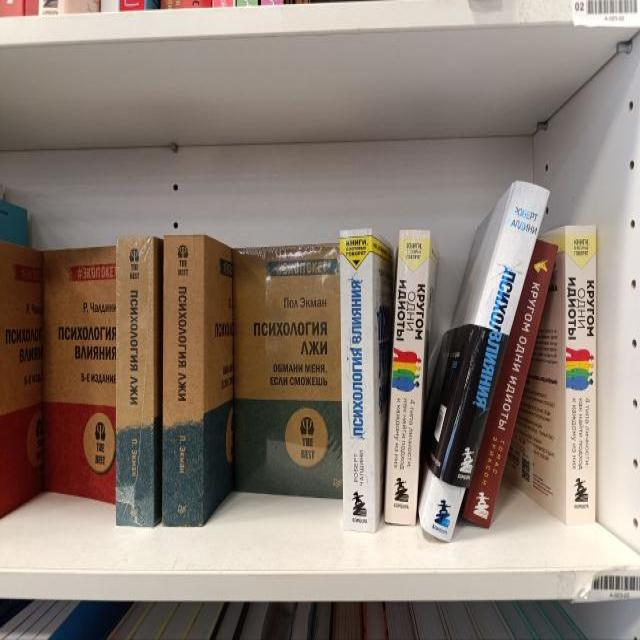book: (421, 180, 550, 543), (462, 239, 558, 528), (385, 230, 430, 526), (163, 236, 203, 526), (116, 236, 154, 528), (340, 229, 374, 532), (566, 224, 596, 524)
